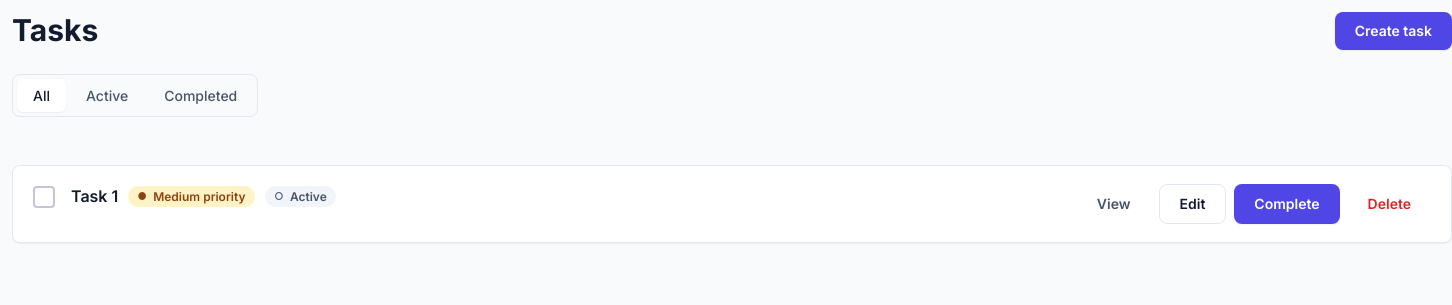
Scenario: the task rows › announces the completion in a live region that was already mounted
Check: the element showing "Task 1 ● Medium priority ○ Active View Edit Complete Delete" is shown, box [12,165,1451,243]
Click the button "Complete" at (1287, 204), box [1234,184,1340,224]
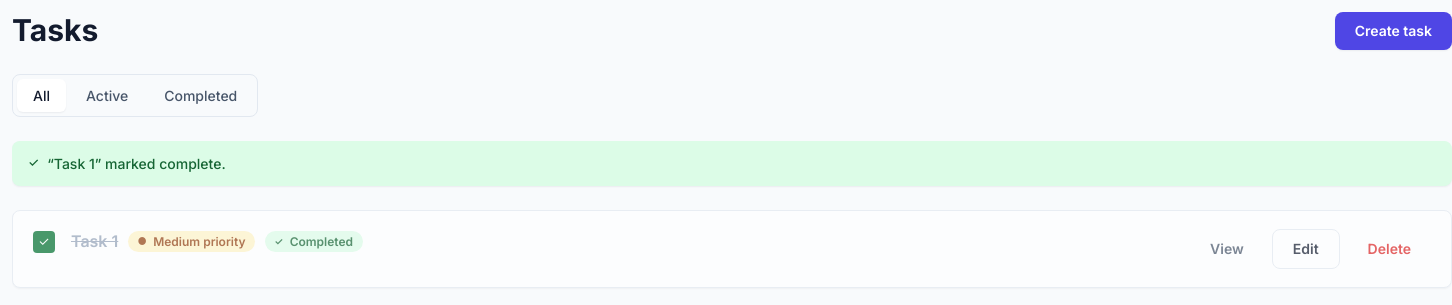
Check: the message with class "flash-region" shows "marked complete", box [47,155,226,172]
